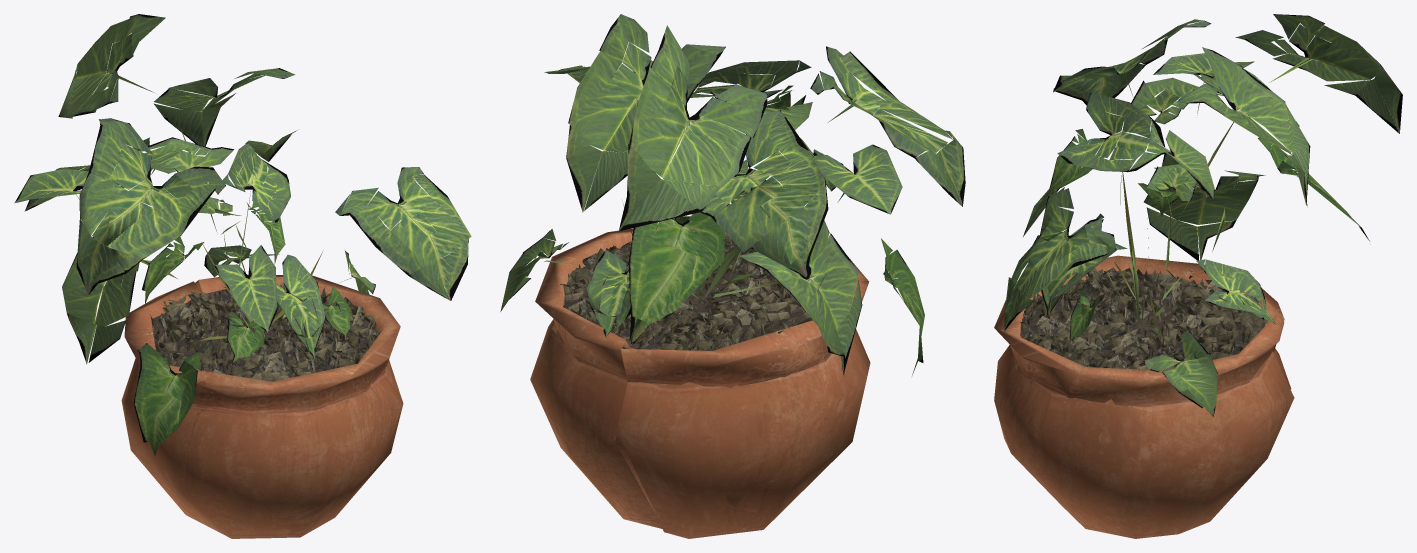
File: potted_plant.glb
3 renders of one model, left to right at view 1: azimuth 30°, elevation 25°; view 2: azimuth 150°, elevation 25°; view 3: azimuth 270°, elevation 25°, orthographic. The views are drawn at different scales.
Visible parts, largest first — view 1: potted_plant; view 2: potted_plant; view 3: potted_plant.
Part boxes in pixels (<box>): potted_plant: <box>14,14,471,538</box>; potted_plant: <box>500,14,965,538</box>; potted_plant: <box>994,14,1402,538</box>.
Bounding box in the file's own units: 0.6977 × 0.8477 × 0.6579.
2 materials, 2 textured.
